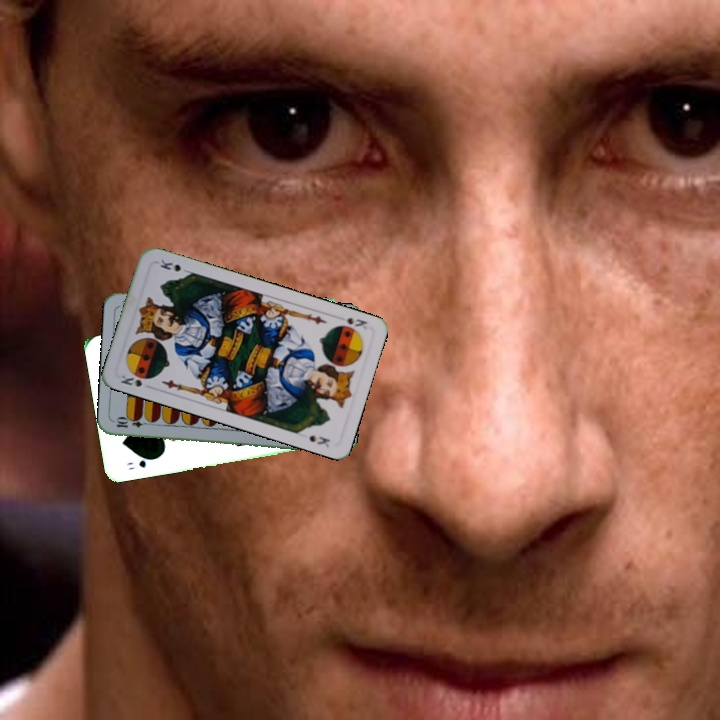E10: (112, 416, 153, 430)
GO: (122, 453, 158, 472)
SK: (332, 313, 370, 335), (117, 371, 145, 390)
